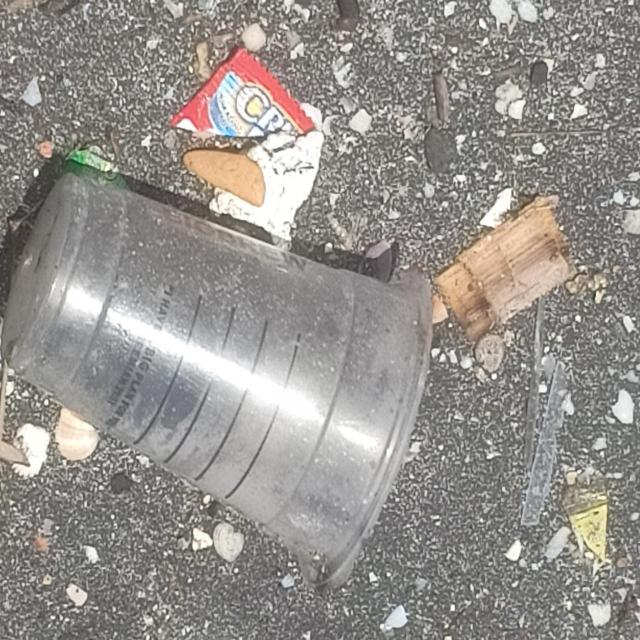plastic_waste: (1, 175, 431, 599)
